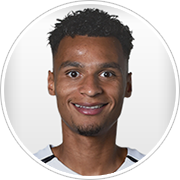face: (45, 51, 135, 132)
